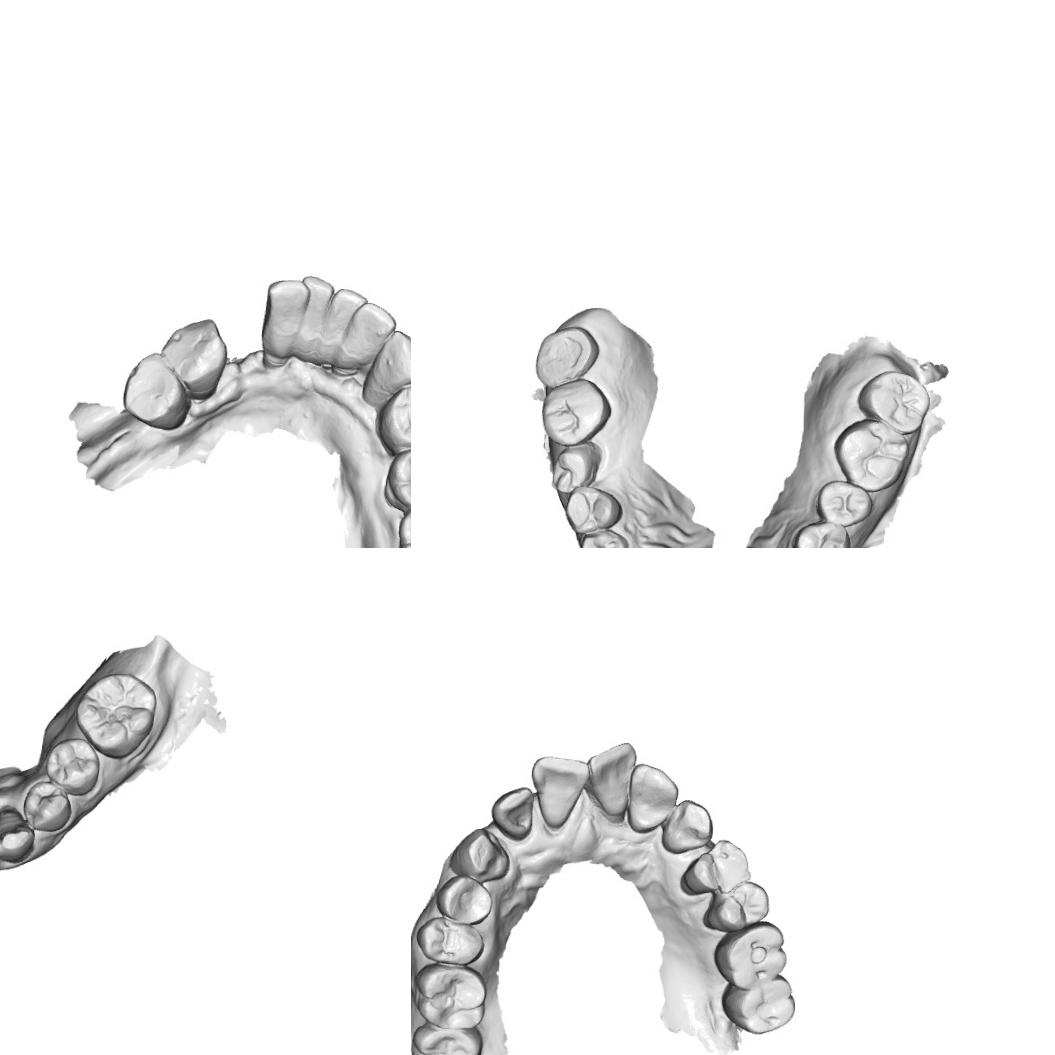canine: (448, 825, 511, 885), (362, 327, 411, 396), (660, 798, 714, 856), (0, 805, 36, 864), (577, 528, 630, 548)
incisor: (529, 754, 591, 833), (584, 740, 638, 822), (624, 762, 680, 836), (340, 300, 398, 361), (262, 276, 312, 339), (294, 273, 335, 343), (321, 285, 368, 346), (488, 784, 534, 843)
molar: (73, 671, 157, 760), (831, 416, 913, 494), (710, 918, 788, 991), (540, 374, 614, 448), (412, 962, 488, 1032), (855, 368, 932, 436), (719, 971, 797, 1036), (533, 324, 601, 392), (411, 1021, 484, 1055)
premolar: (119, 349, 193, 433), (159, 314, 230, 396), (678, 836, 754, 899), (701, 879, 770, 934), (415, 915, 485, 967), (45, 736, 100, 797), (434, 872, 494, 926), (562, 484, 624, 536), (550, 439, 604, 496), (22, 780, 78, 832), (815, 479, 875, 527), (375, 382, 411, 453), (381, 444, 411, 511), (790, 519, 852, 548)
